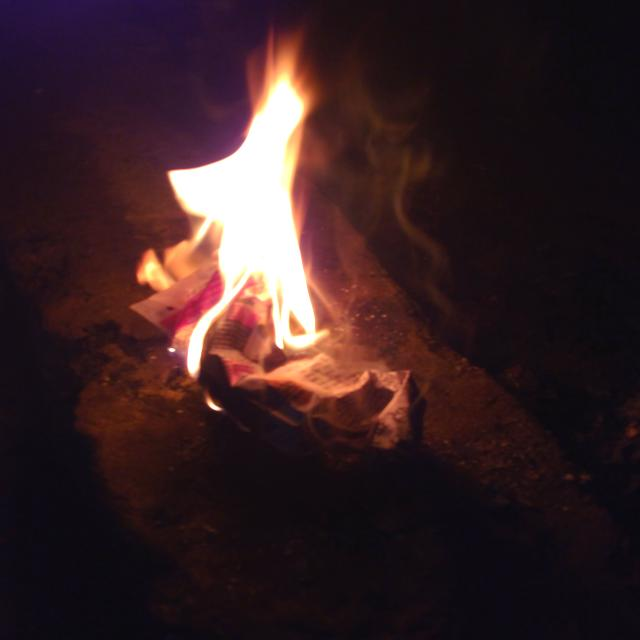firerotation: (133, 28, 332, 414)
